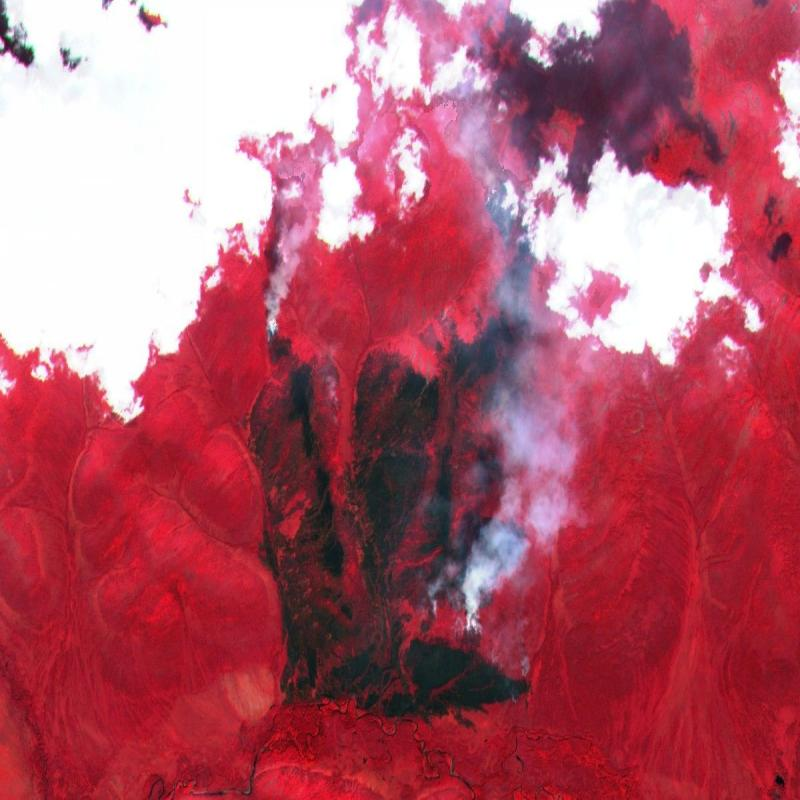fire: (426, 562, 490, 648), (255, 268, 287, 360), (514, 642, 531, 706)
